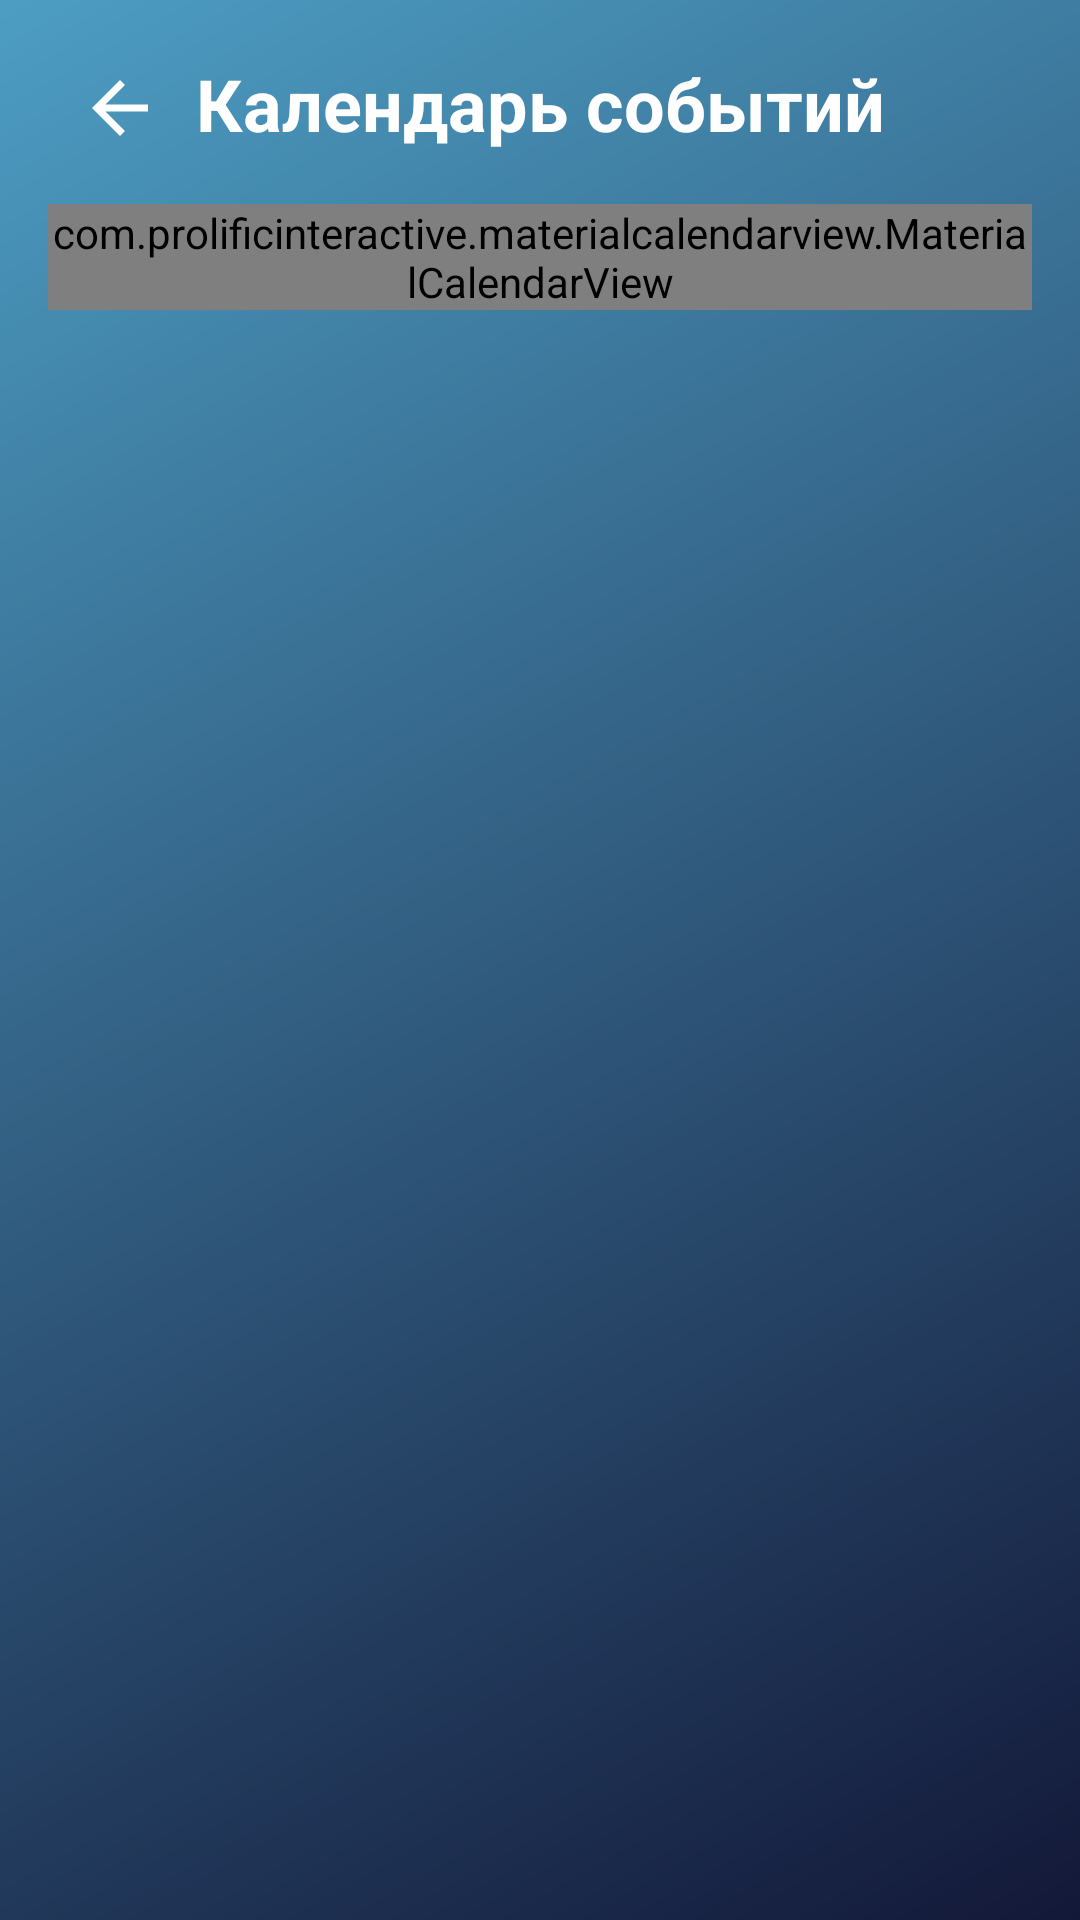

Screen size 1080 × 1920. Icon name, then its box in pixels as (x1, y1, x2, y2):
Назад: (92, 80, 148, 136)
